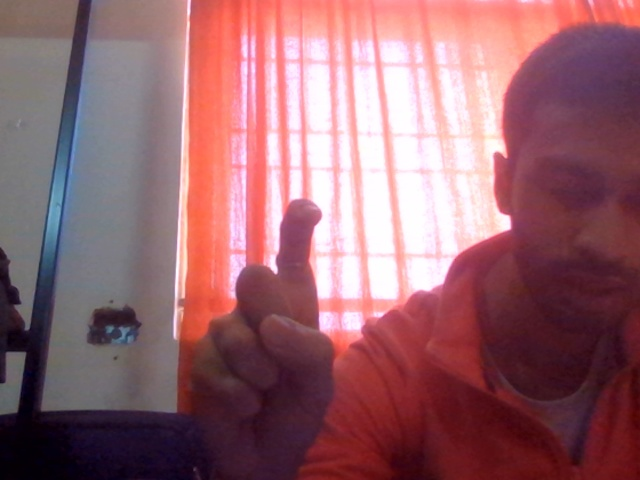X: (161, 165, 404, 480)
